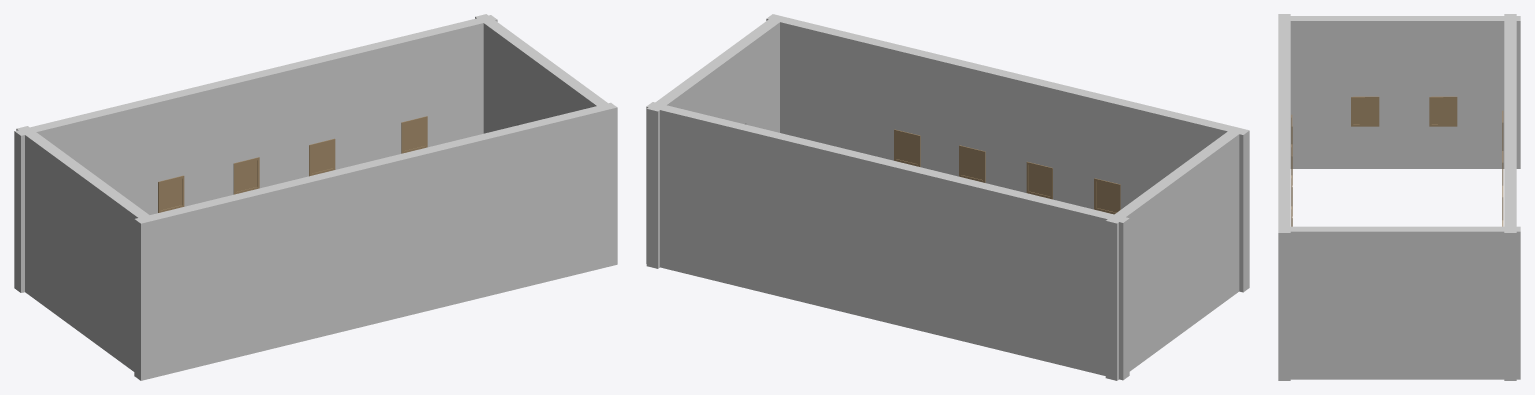
The model's file is puno85_objects.glb.
3 views of the same model, side by side, from view 1: azimuth 30°, elevation 25°; view 2: azimuth 150°, elevation 25°; view 3: azimuth 270°, elevation 25° (orthographic). The views are drawn at different scales.
Visible parts, largest first — view 1: Box (×4), FALKOWSKI, TABORSKA, MIER, kazimierski; view 2: Box (×4), CESARIA, BRZESKI, HALECKI, SULIMIRSKI11; view 3: Box (×4), DREWNOWSKI, SAS.
Boxes of the visible parts, bbox=[...] form: Box (×4): bbox=[14, 14, 617, 380]; FALKOWSKI: bbox=[158, 175, 184, 212]; TABORSKA: bbox=[233, 157, 259, 194]; MIER: bbox=[401, 116, 427, 153]; kazimierski: bbox=[309, 138, 335, 176]; Box (×4): bbox=[646, 14, 1249, 380]; CESARIA: bbox=[1026, 161, 1052, 199]; BRZESKI: bbox=[959, 145, 985, 182]; HALECKI: bbox=[894, 129, 920, 166]; SULIMIRSKI11: bbox=[1094, 178, 1120, 214]; Box (×4): bbox=[1278, 14, 1520, 380]; DREWNOWSKI: bbox=[1429, 96, 1457, 126]; SAS: bbox=[1351, 96, 1379, 126].
Bounding box in the file's own units: 42.24 × 13.32 × 19.73.
